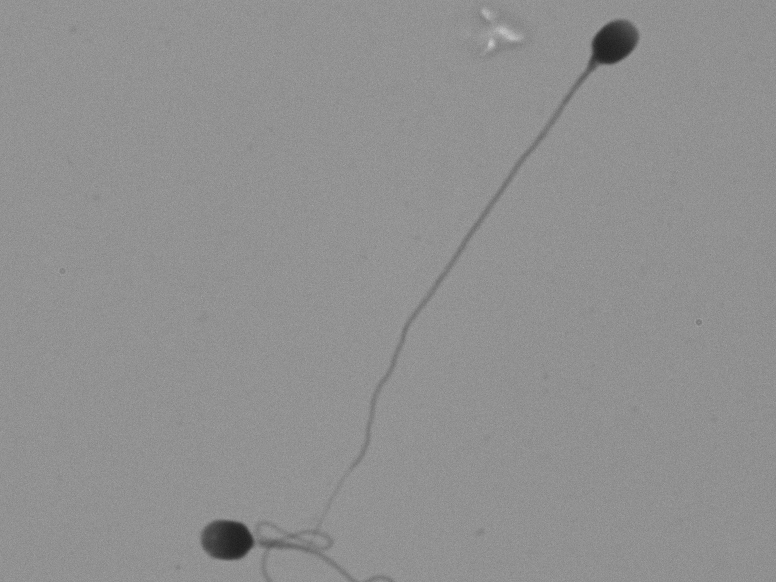Normal: (268, 11, 698, 505), (158, 490, 362, 578)
